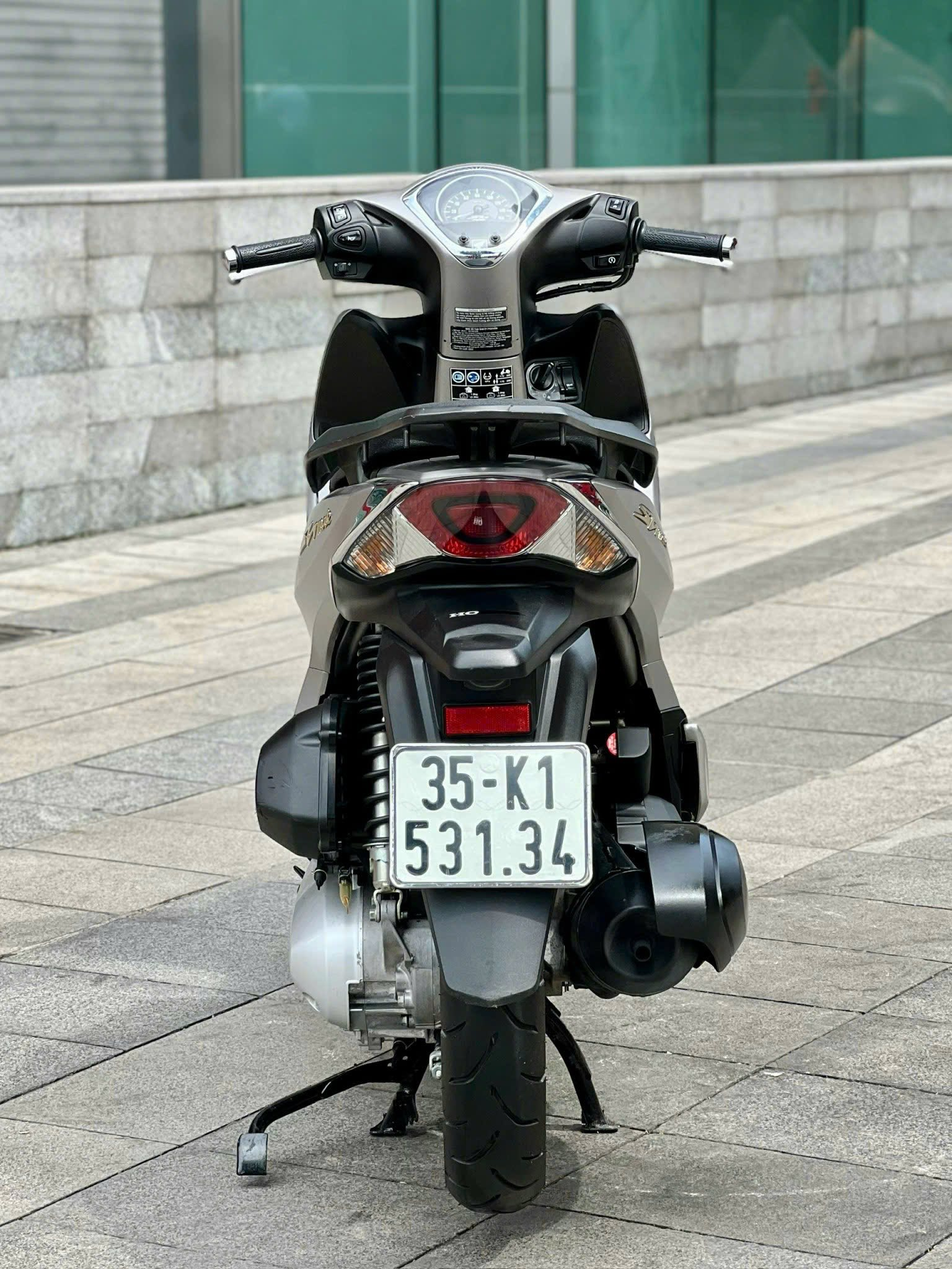bien_so: (378, 736, 605, 902)
